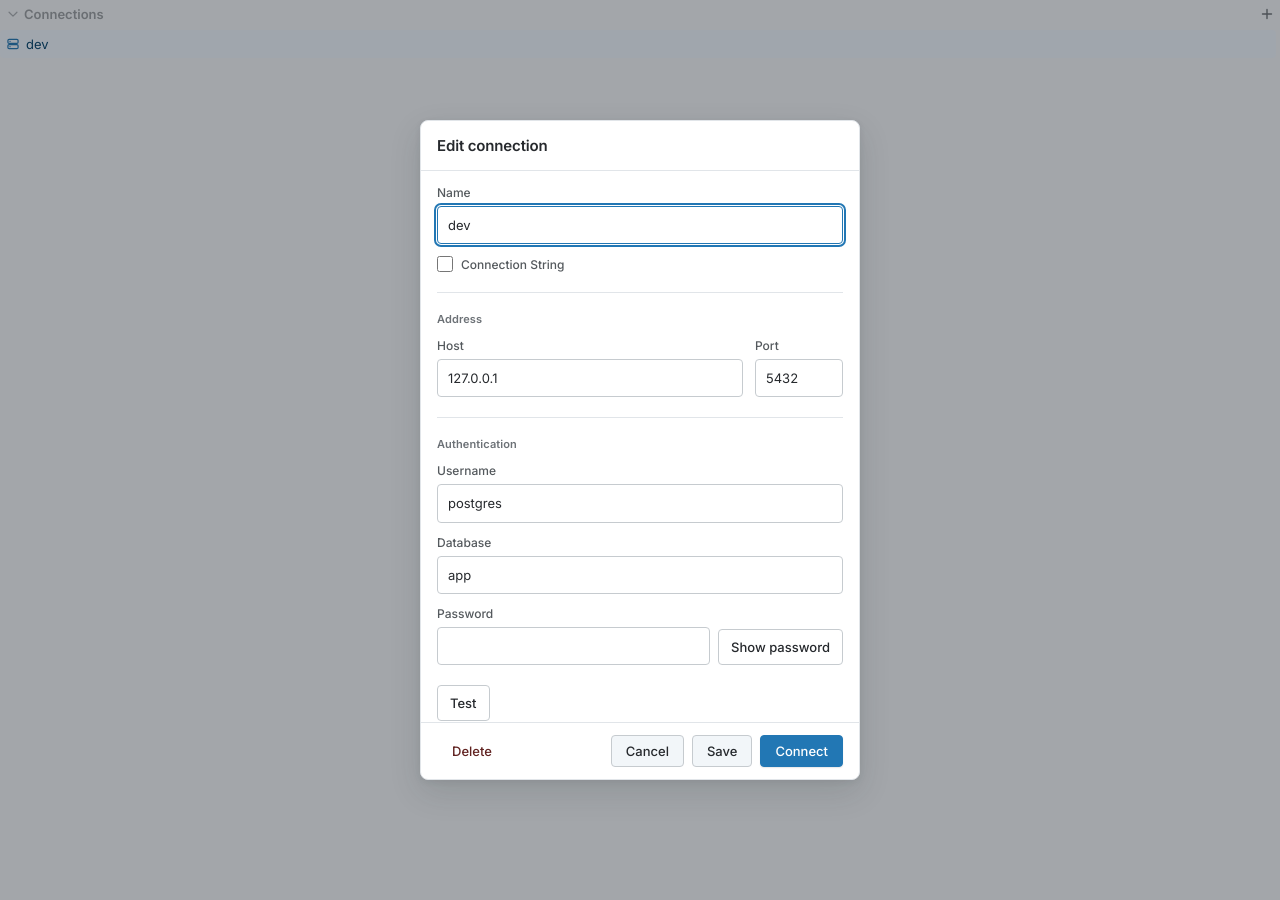
ConnectionPanel Save-then-Connect › surfaces human IpcError on connectProfile failure and does not claim Connected
Click the button "Connect" at [802, 751], box [760,735,843,767]
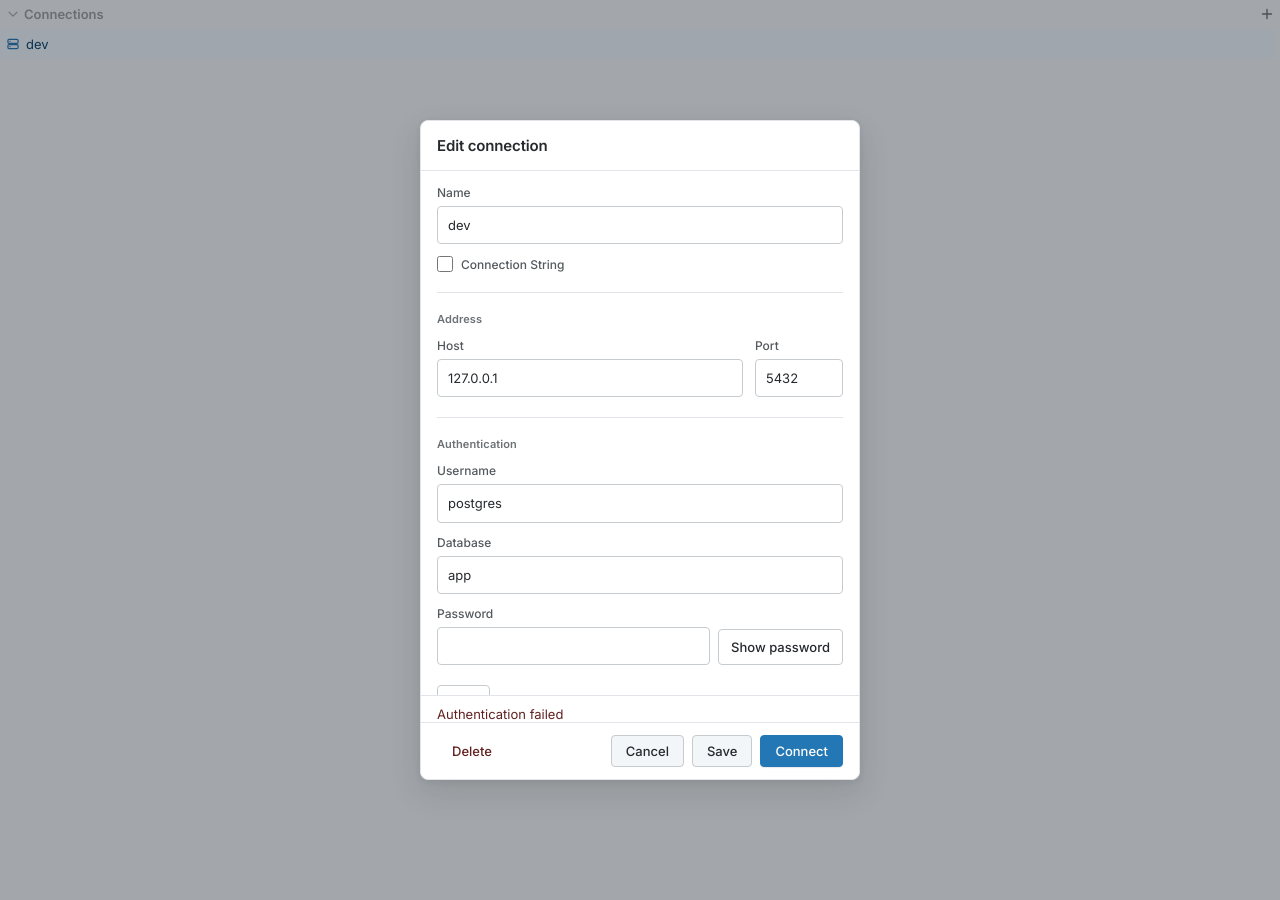
Expected: the text "Authentication failed" is shown, [437,706,563,722]
